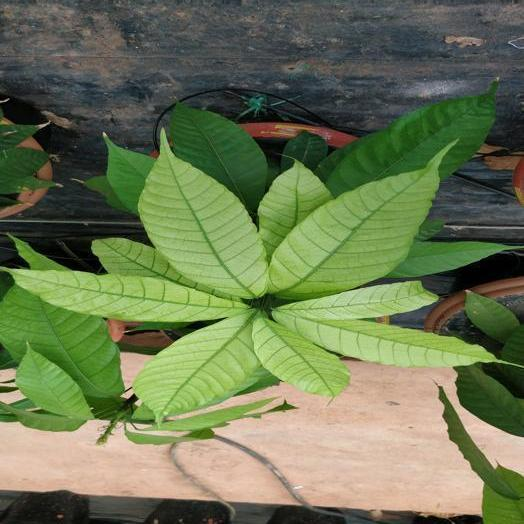Healthy Leaf: (320, 83, 496, 196), (0, 285, 122, 396), (169, 101, 267, 213), (439, 387, 518, 498), (0, 99, 54, 217), (17, 346, 93, 419), (389, 241, 523, 277), (456, 366, 523, 436), (105, 135, 154, 213), (465, 292, 518, 341), (1, 402, 84, 430), (281, 131, 327, 170)
Iron: (270, 153, 443, 298), (140, 133, 267, 298), (134, 313, 259, 421), (5, 269, 247, 319), (273, 312, 494, 366), (253, 314, 348, 396), (92, 238, 218, 295), (259, 160, 332, 258), (275, 281, 437, 320), (160, 399, 273, 430), (267, 403, 294, 411)
